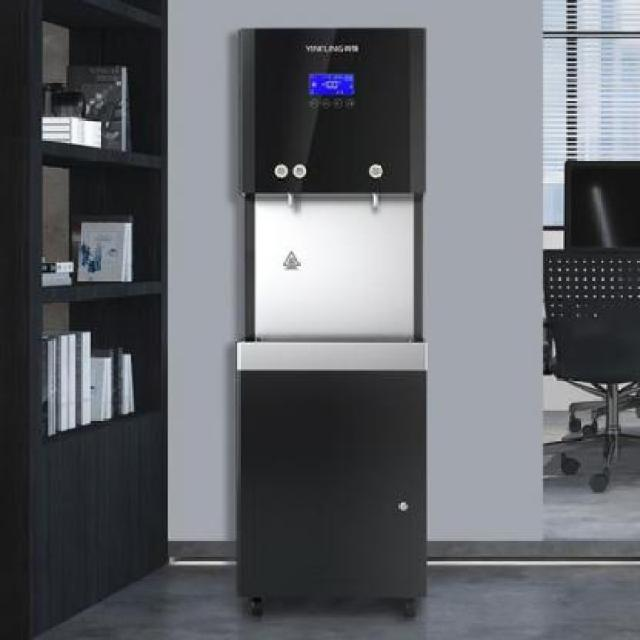cooler: (232, 22, 428, 614)
